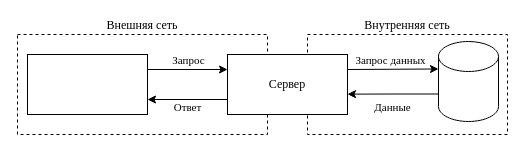
This 525x152 diagram has some shape labels left out. The shapes that lost their labels are listed below. From the top down, each one's centre as x and y in pixels, then its label:
At pixel 87 84: "Клиент".
At pixel 468 81: "База данных".
